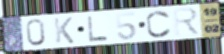0: (25, 18, 47, 47)
5: (115, 11, 138, 41)
C: (145, 9, 173, 39)
K: (52, 16, 76, 44)
L: (86, 15, 110, 43)
R: (171, 6, 202, 37)
